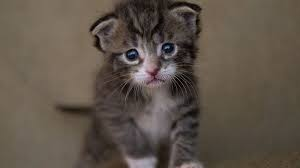cat: (48, 4, 222, 168)
